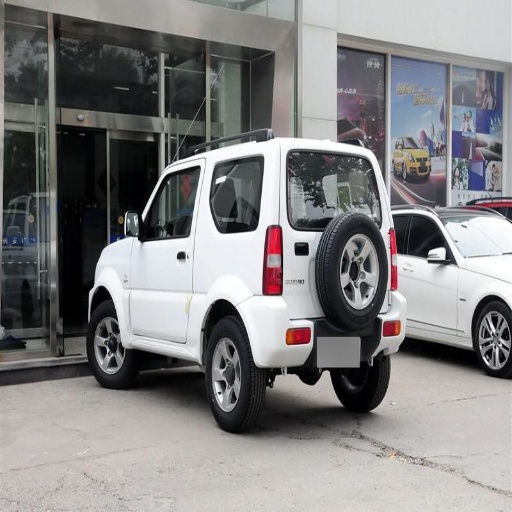trunk: (176, 238, 297, 365), (282, 175, 373, 261)
